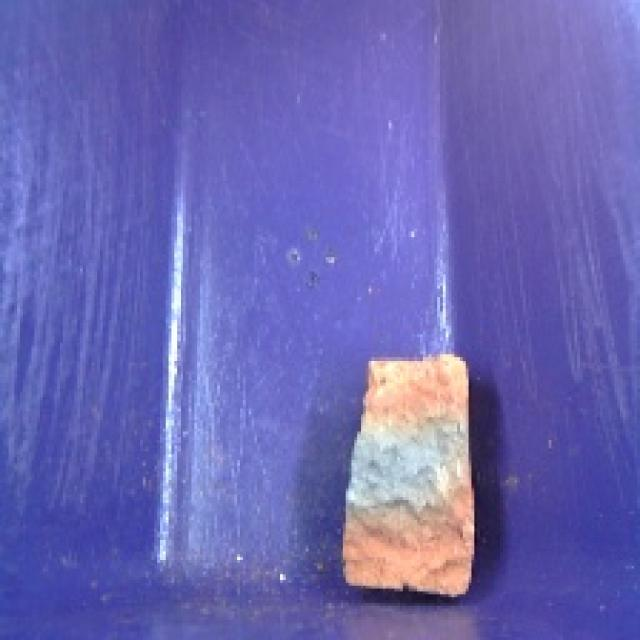brick: (313, 343, 505, 612)
